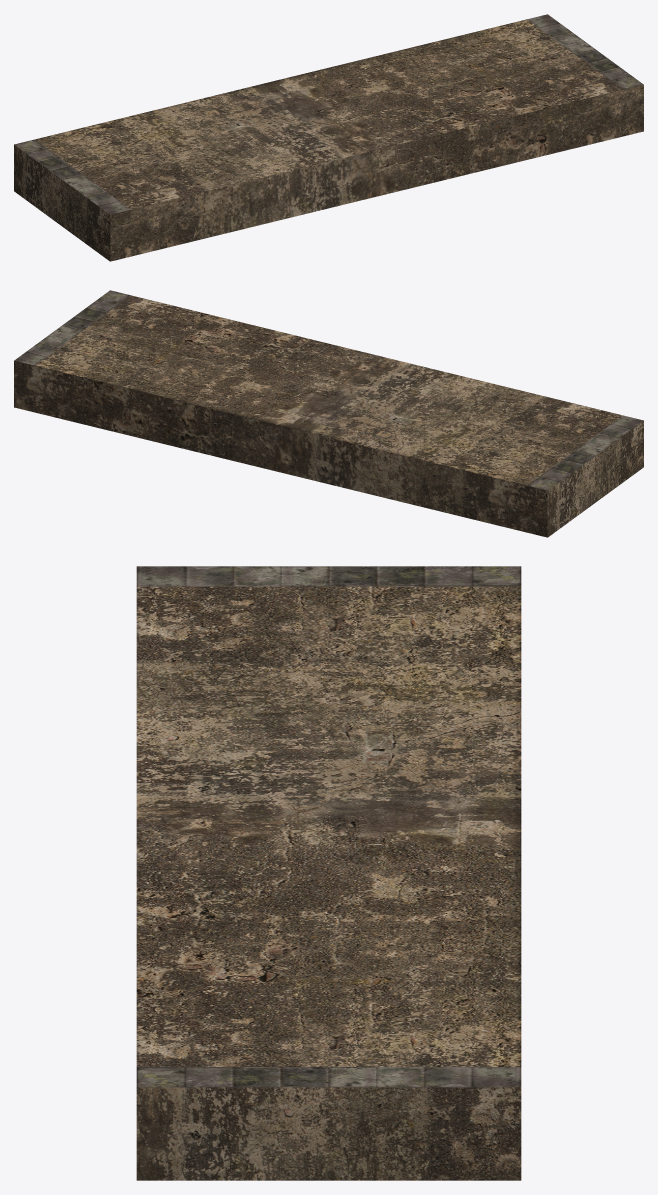
Rendered from materials_5_floor_rectangle_13.fbx.
The picture shows the model from 3 angles, top to bottom: view 1: azimuth 30°, elevation 25°; view 2: azimuth 150°, elevation 25°; view 3: azimuth 270°, elevation 25°; orthographic projection. The views are drawn at different scales.
Parts seen in each view (by area): view 1: materials_5_floor_rectangle_13; view 2: materials_5_floor_rectangle_13; view 3: materials_5_floor_rectangle_13.
Boxes of the visible parts, x1,y1,x2,y2 form: materials_5_floor_rectangle_13: (14, 14, 643, 261); materials_5_floor_rectangle_13: (14, 290, 643, 537); materials_5_floor_rectangle_13: (136, 566, 521, 1180).
Size of the model in its own units: 512 by 42.89 by 160.
